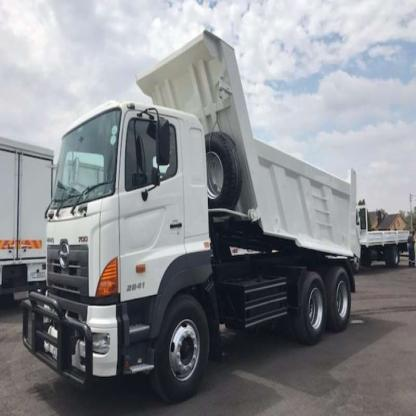dump_truck: (18, 27, 367, 403)
